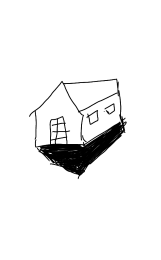door: (47, 115, 71, 148)
open_window: (86, 109, 100, 126), (104, 102, 118, 118)
roof: (21, 75, 127, 113)
shadow: (33, 122, 135, 181)
small_house: (1, 2, 161, 260)
wall: (29, 80, 86, 148)
